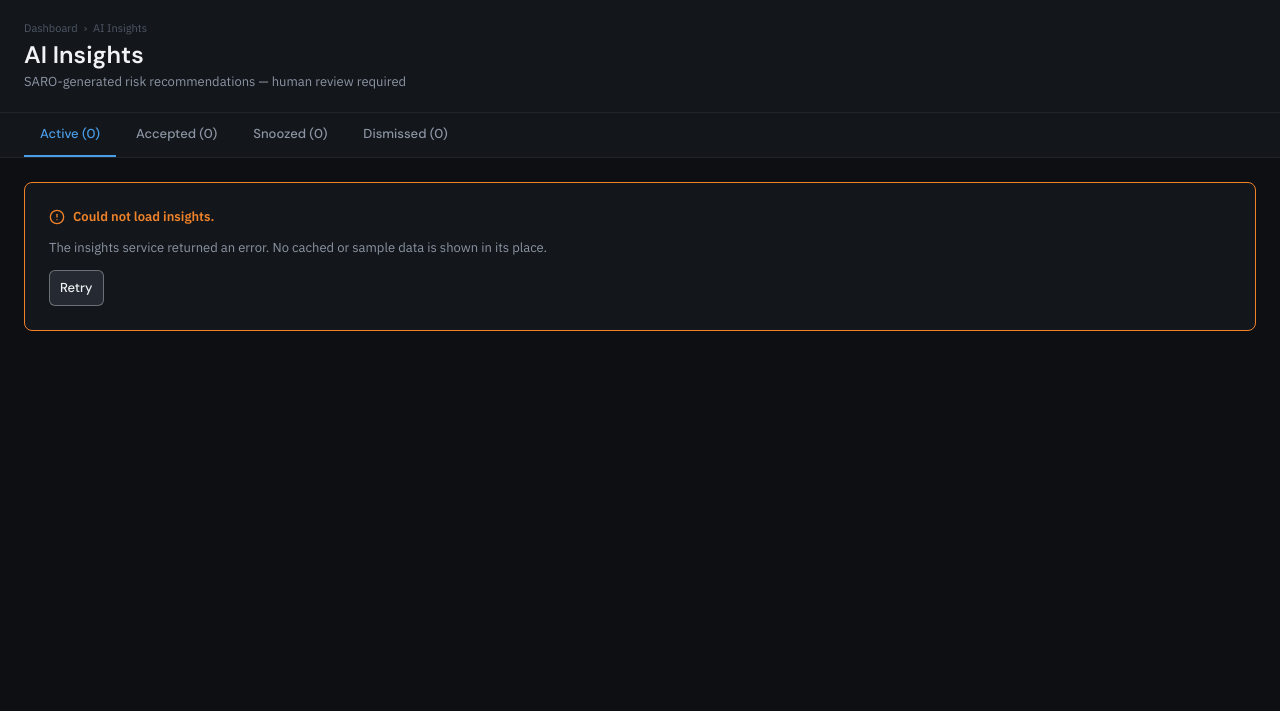
Scenario: STORY-001 — backend data wiring › AC-3: API error shows an error state with retry — never mock data (test_insights_error_state)
expect the message shows "Could not load insights": met, box x1=73 y1=208 x2=214 y2=225
Click the button "Retry": (76, 288) x1=49 y1=270 x2=104 y2=306
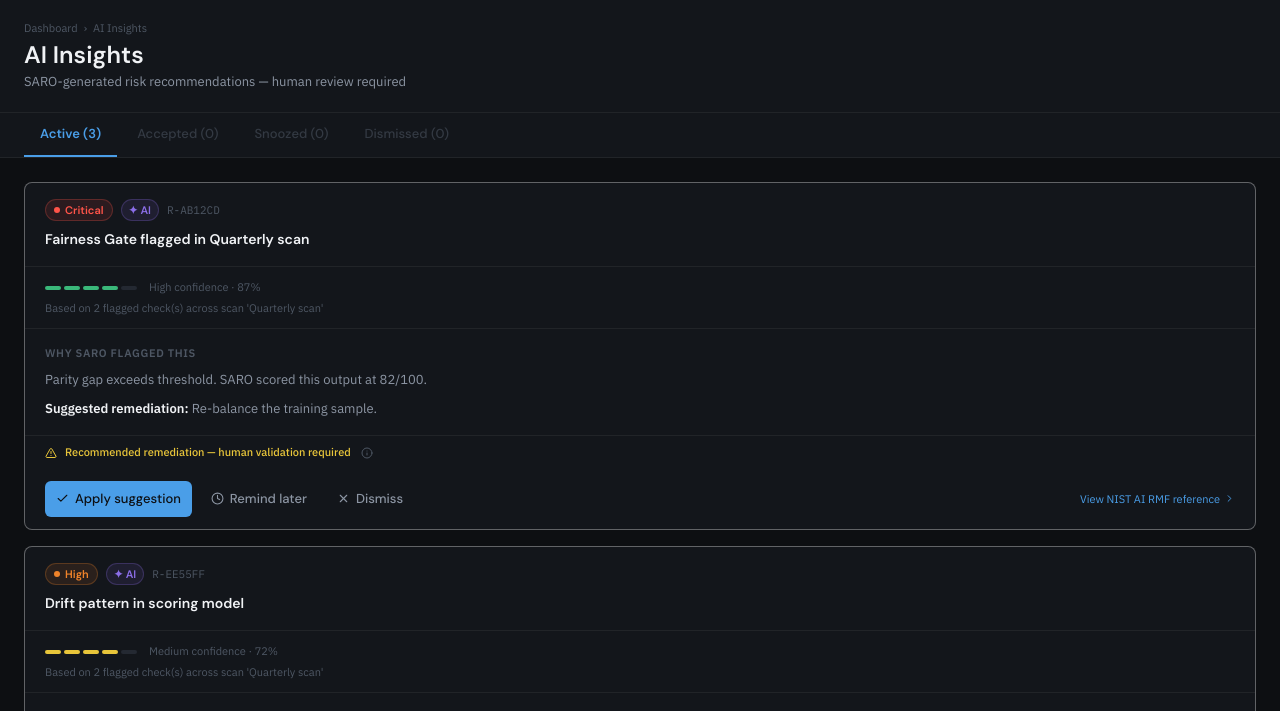
expect the heading "Fairness Gate flagged in Quarterly scan" is shown: met, box x1=45 y1=230 x2=309 y2=248
